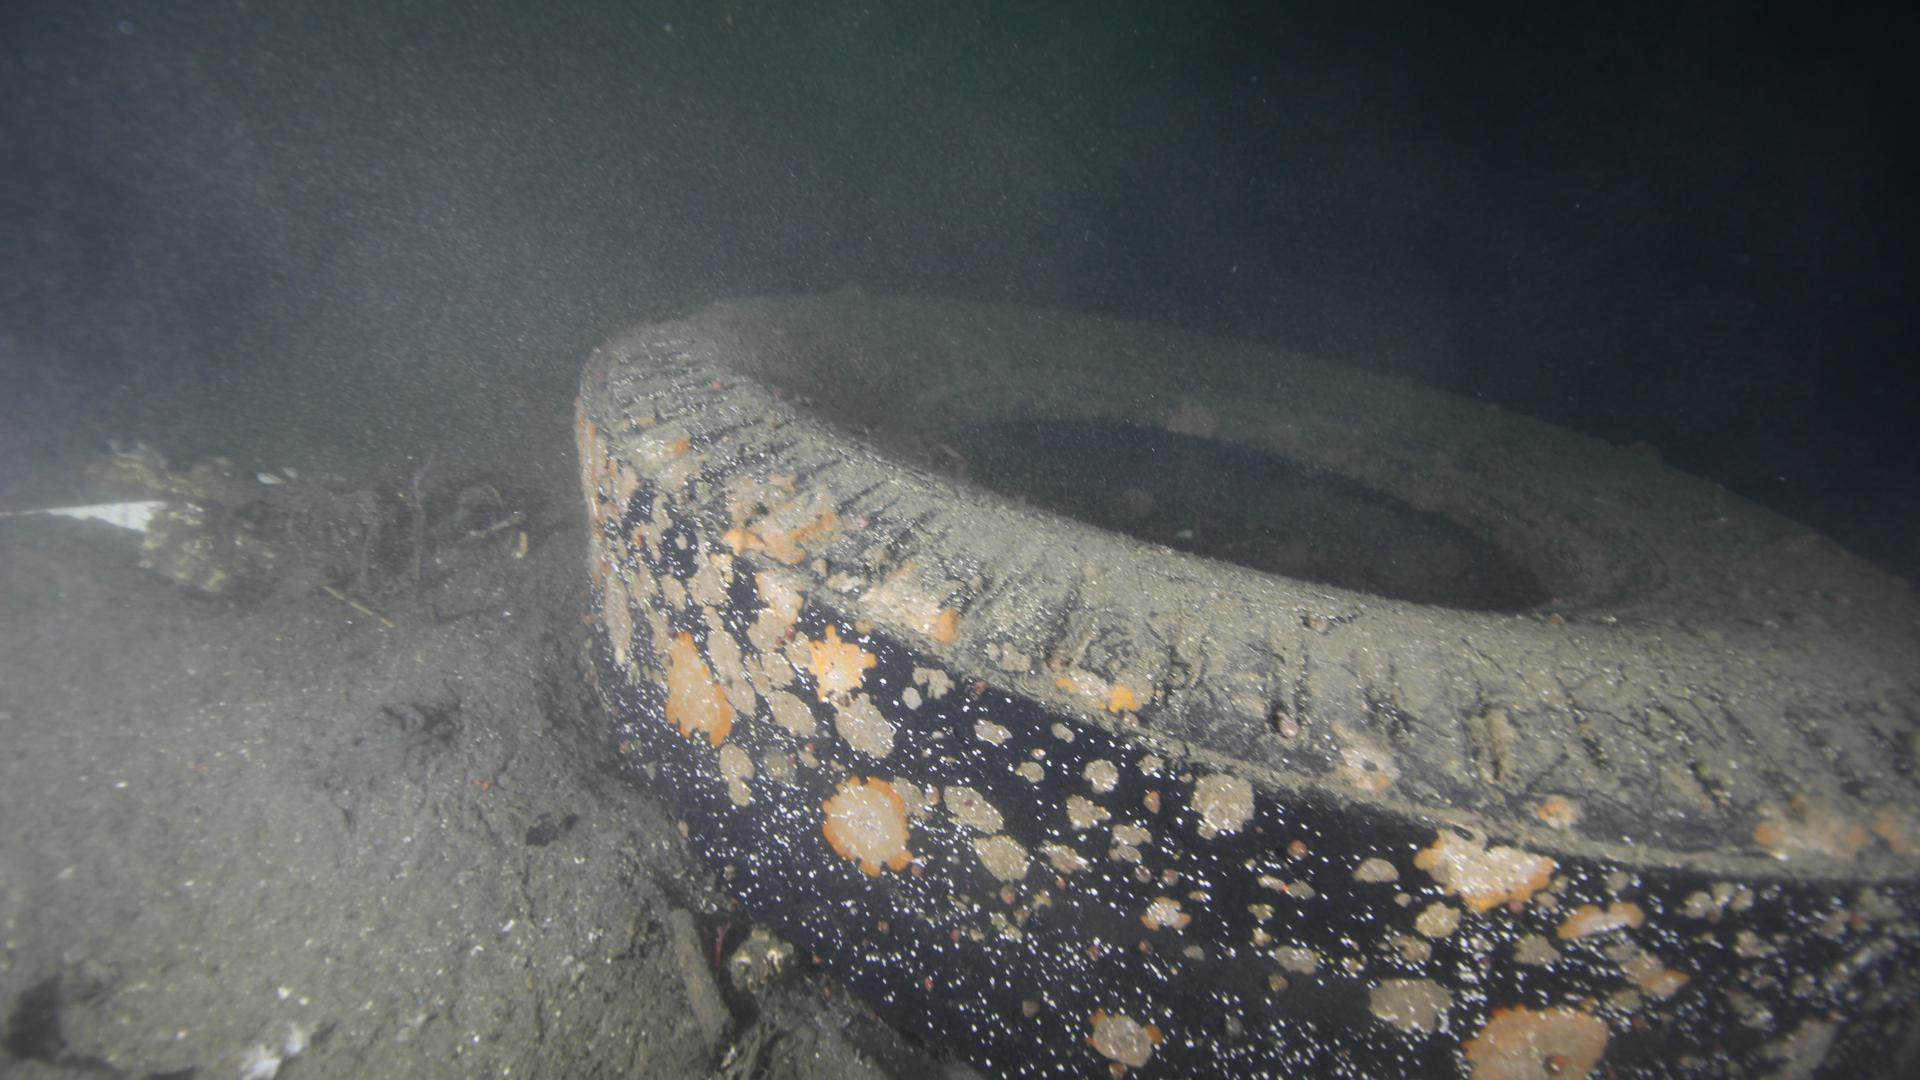tire: (574, 287, 1920, 1080)
